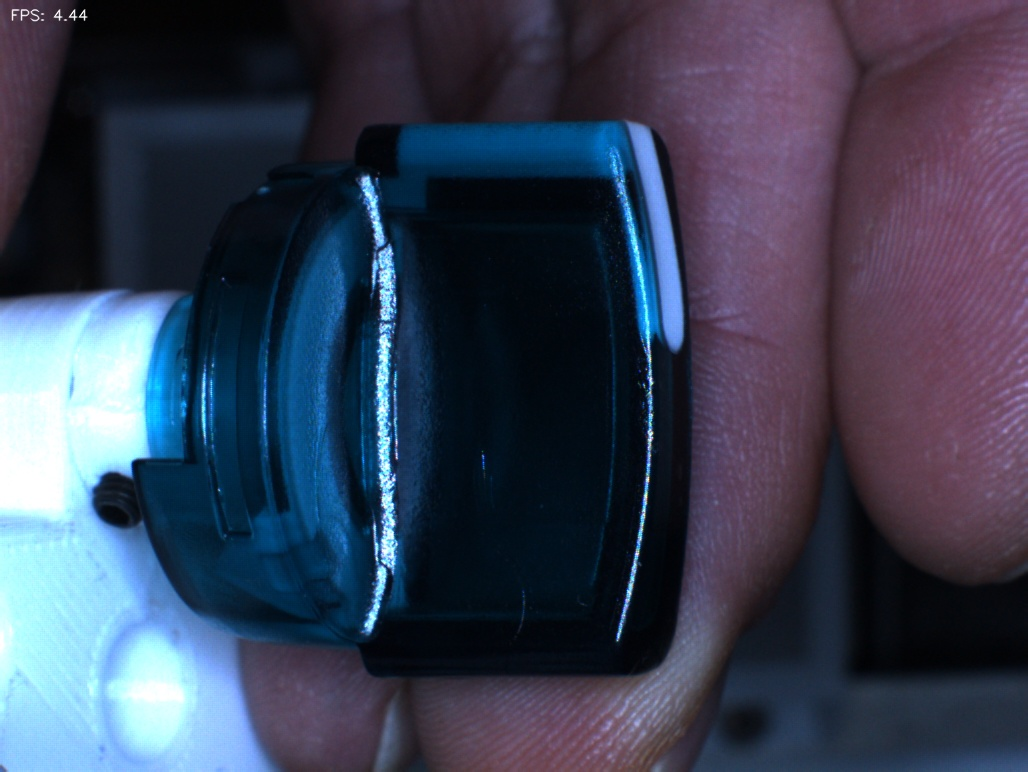Givrage: (452, 438, 538, 654)
